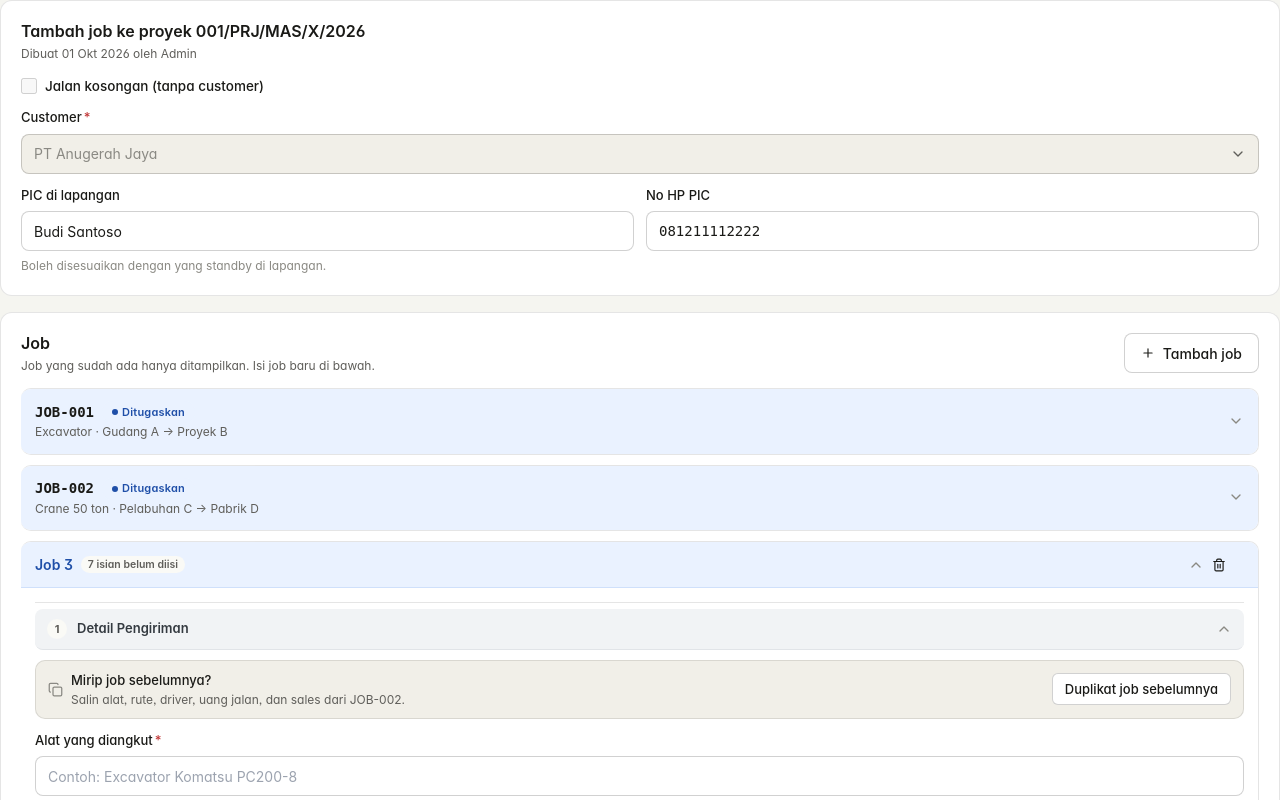
Tambah job: Duplikat job sebelumnya › edge: kartu yang sudah diisi → isian alat ditimpa dari job terakhir
This screenshot has width=1280, height=800.
Type "Forklift" into the field with placeholder "Contoh: Excavator Komatsu PC200-8" at (640, 776), box [35,756,1244,796]
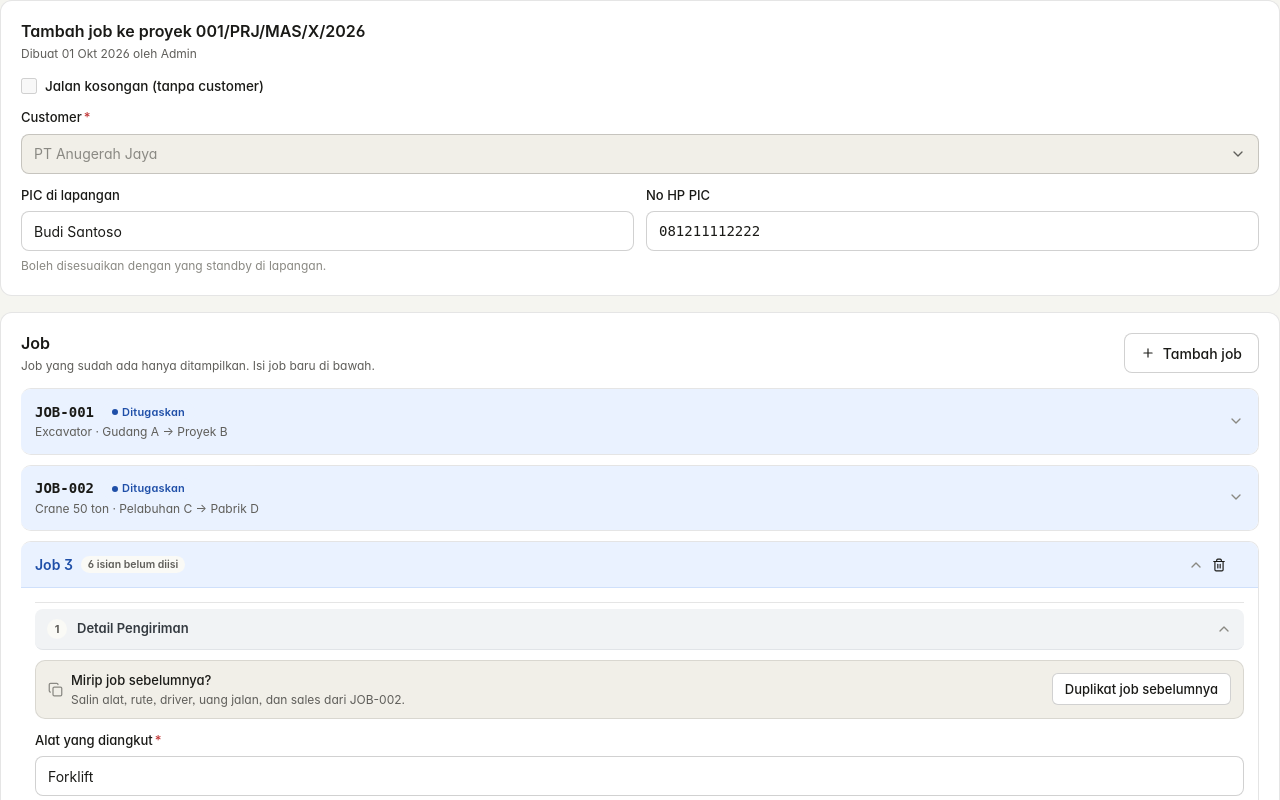
Click the button "Duplikat job sebelumnya" at (1141, 689), box [1052,673,1231,705]
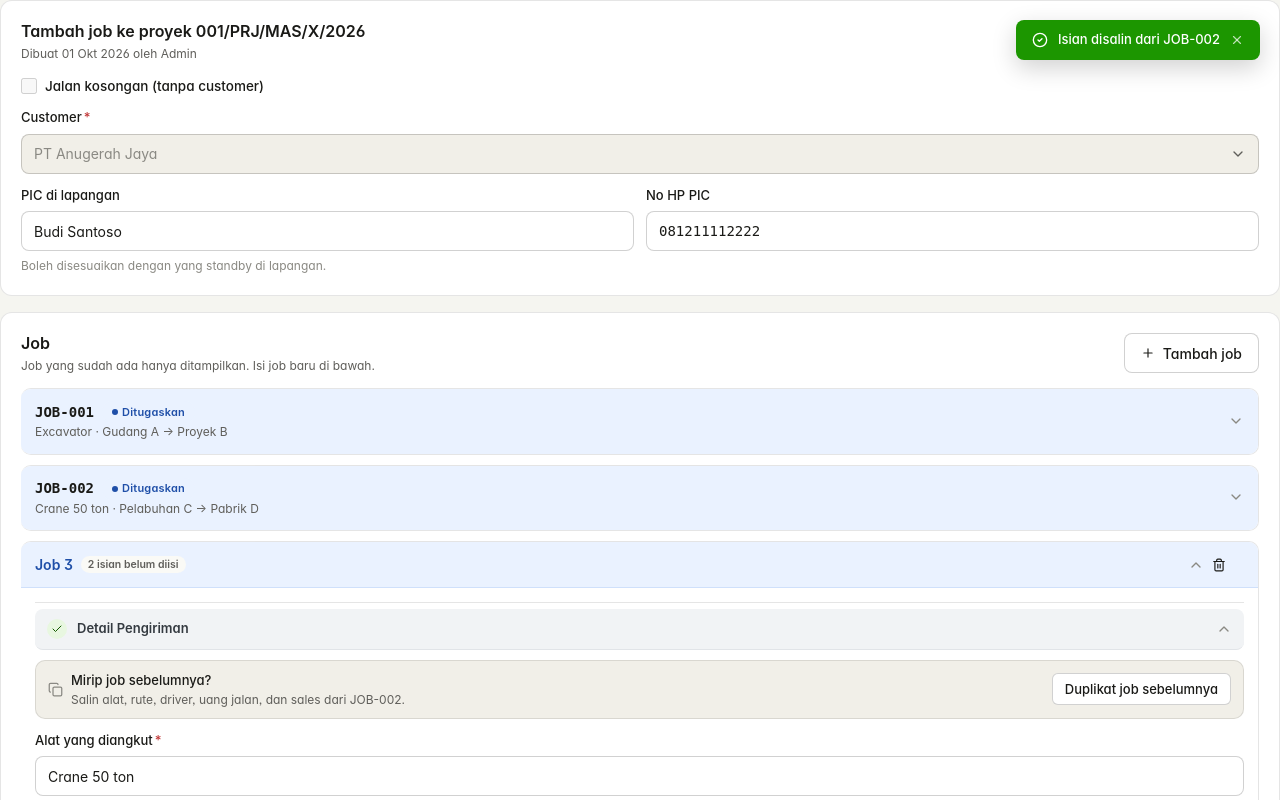
Check: the field with placeholder "Contoh: Excavator Komatsu PC200-8" below "Alat yang diangkut" holds "Crane 50 ton", box [35,756,1244,796]
